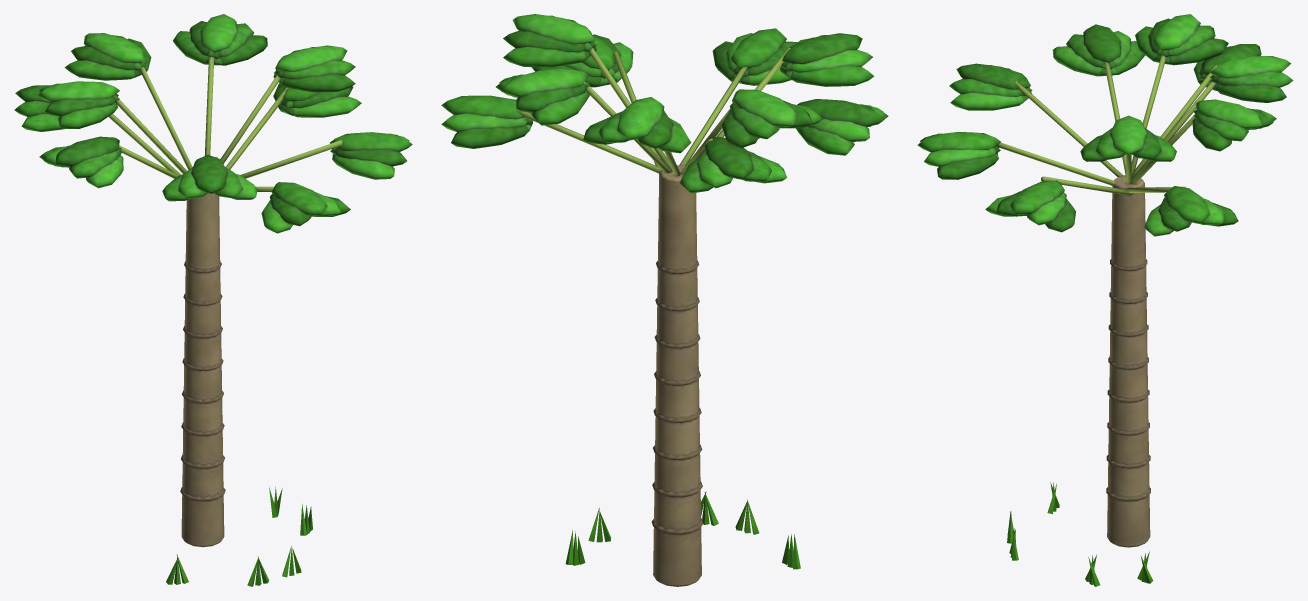
The model's file is papaya_tree.glb.
3 views of the same model, side by side, from view 1: azimuth 30°, elevation 25°; view 2: azimuth 150°, elevation 25°; view 3: azimuth 270°, elevation 25° (orthographic). The views are drawn at different scales.
Parts seen in each view (by area): view 1: crown, papaya_tree; view 2: crown, papaya_tree; view 3: crown, papaya_tree.
Boxes of the visible parts, x1,y1,x2,y2 form: crown: [14, 14, 412, 547]; papaya_tree: [166, 486, 312, 586]; crown: [441, 14, 888, 586]; papaya_tree: [565, 491, 800, 569]; crown: [917, 14, 1293, 547]; papaya_tree: [1007, 482, 1153, 586].
Bounding box in the file's own units: 1.1 × 1.43 × 1.04.
1 material, 1 textured.
